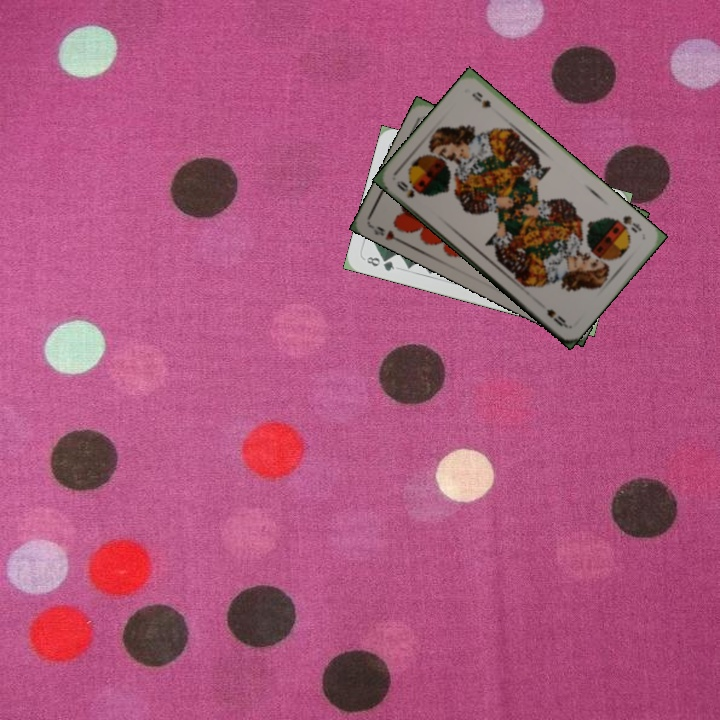G8: (362, 252, 397, 274)
H9: (370, 222, 406, 246)
SO: (612, 211, 644, 236), (392, 176, 423, 201)
